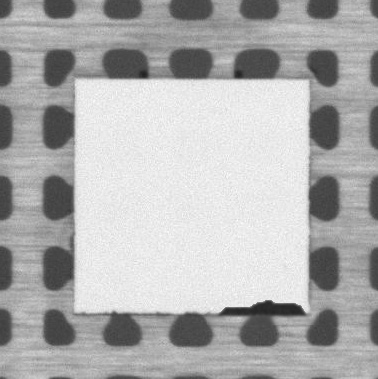DIE_BROKEN: (215, 299, 306, 320)
